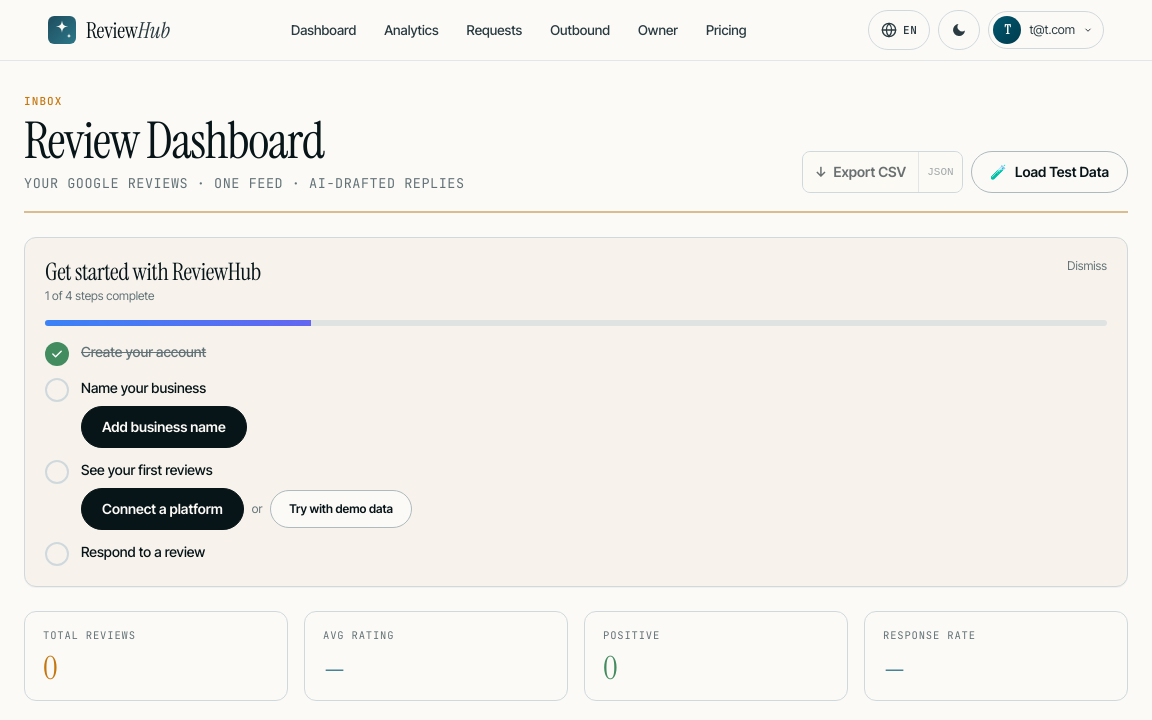
Scenario: Dashboard → OnboardingChecklist integration › hides checklist optimistically when user clicks dismiss (before /me refresh returns)
Expected: the heading "Get started with ReviewHub" is shown, [45,258,261,286]
Step 1. Click the button with aria-label "dismiss the onboarding" → click(1087, 266), box [1067,258,1107,274]
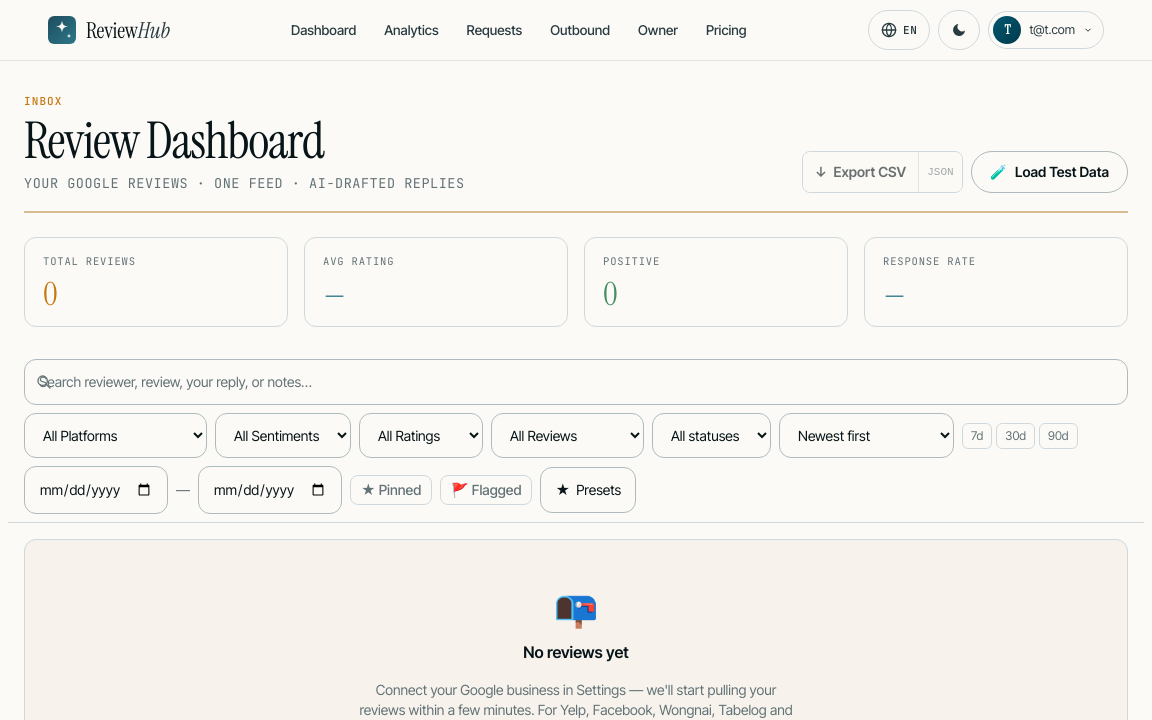
Expected: the heading "Get started with ReviewHub" is gone
